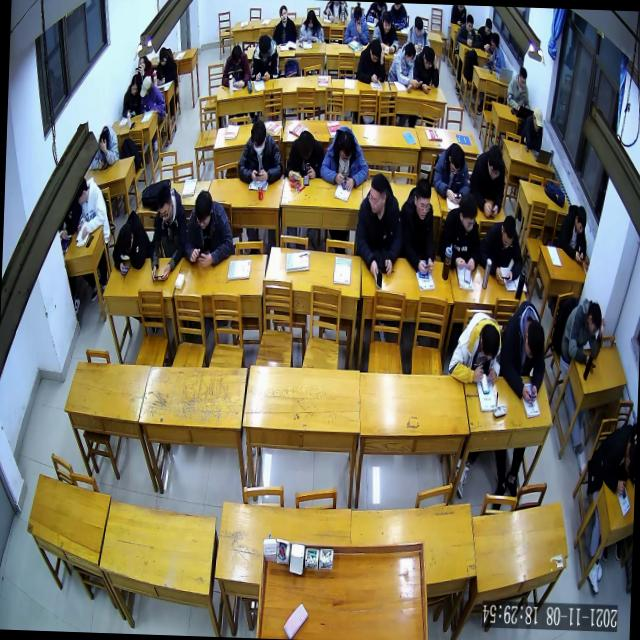bow: (499, 298, 547, 396), (447, 310, 502, 382), (111, 210, 151, 272), (387, 40, 416, 92), (90, 124, 120, 170)
down: (524, 320, 545, 358), (480, 323, 500, 360), (414, 180, 432, 220), (194, 189, 212, 228), (459, 195, 477, 232), (486, 144, 502, 180), (156, 188, 172, 223), (336, 132, 353, 162), (500, 216, 515, 249), (588, 300, 602, 334), (623, 443, 636, 478), (297, 130, 312, 160), (118, 222, 133, 250), (448, 145, 462, 175), (574, 206, 586, 233), (76, 180, 87, 206), (258, 34, 270, 56), (98, 130, 109, 154), (140, 75, 152, 96), (532, 108, 543, 130), (422, 48, 433, 68), (230, 45, 240, 65), (414, 17, 424, 37), (382, 12, 392, 32), (517, 68, 527, 88), (129, 75, 139, 95), (158, 46, 168, 66), (352, 5, 362, 22), (306, 10, 315, 28), (465, 14, 473, 32), (484, 16, 491, 34), (376, 2, 383, 10)
lookup: (278, 5, 288, 22), (139, 55, 147, 68)
sit: (354, 172, 402, 281), (183, 189, 234, 267), (586, 424, 636, 496), (149, 186, 187, 280), (399, 177, 436, 272), (439, 195, 482, 270), (320, 125, 370, 189), (559, 298, 605, 367), (478, 216, 524, 282), (238, 120, 284, 183), (468, 142, 506, 215), (433, 140, 471, 202), (74, 178, 111, 240), (284, 130, 324, 178), (557, 203, 588, 262), (250, 34, 280, 80), (221, 42, 250, 88), (413, 44, 440, 92), (356, 40, 386, 82), (138, 76, 166, 120), (372, 9, 399, 52), (272, 4, 298, 44), (344, 6, 371, 44), (520, 108, 543, 152), (506, 67, 530, 108), (122, 72, 142, 116), (406, 15, 430, 51), (298, 10, 324, 42), (154, 47, 177, 83), (456, 14, 480, 47), (488, 31, 507, 71), (476, 17, 494, 49), (134, 54, 152, 76)
